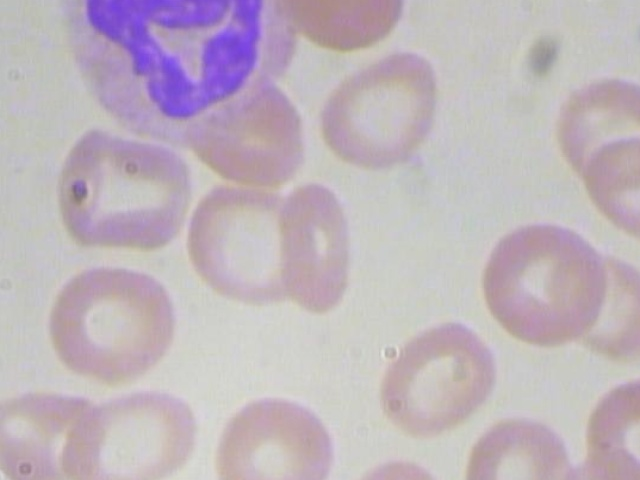RBC: (52, 121, 202, 258), (41, 257, 180, 390), (306, 41, 445, 174), (363, 304, 502, 437), (475, 215, 614, 348), (188, 179, 327, 310), (53, 381, 208, 480), (268, 176, 357, 315), (0, 377, 108, 480), (211, 394, 340, 480), (457, 409, 579, 480), (269, 0, 409, 56)
WBC: (39, 0, 300, 156)
